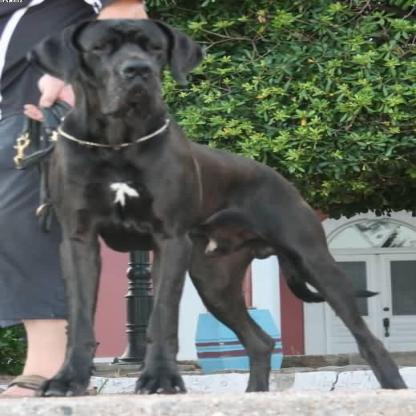Great_Dane: (31, 15, 408, 397)
